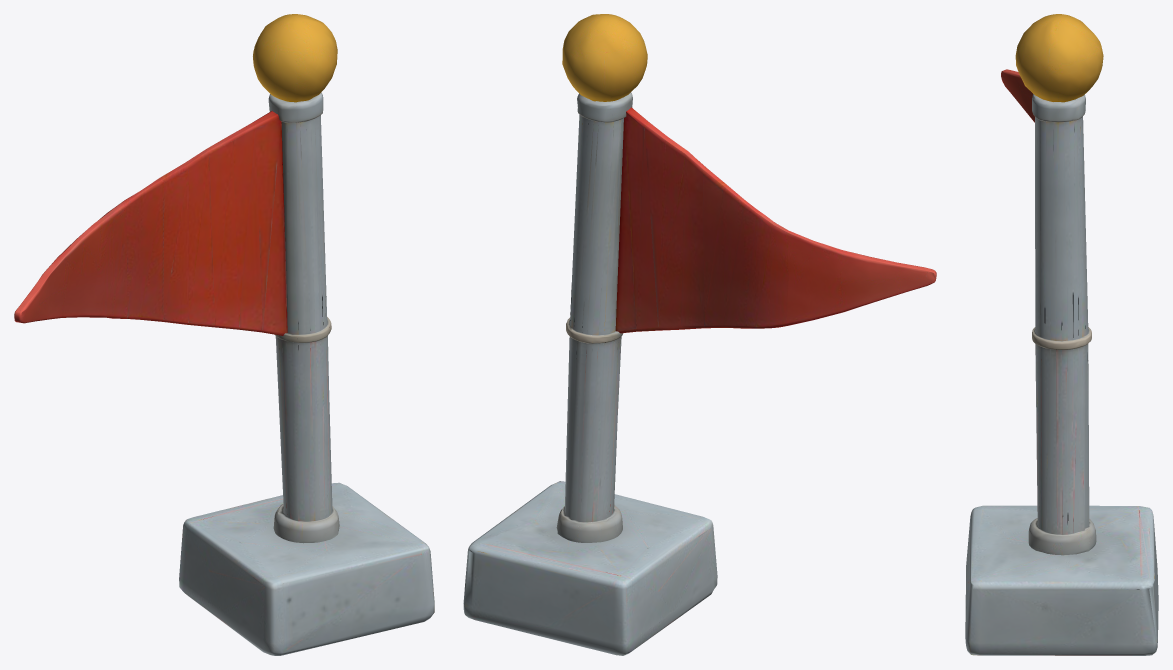
The model's file is flag.glb.
The picture shows the model from 3 angles, left to right: view 1: azimuth 30°, elevation 25°; view 2: azimuth 150°, elevation 25°; view 3: azimuth 270°, elevation 25°; orthographic projection.
Parts seen in each view (by area): view 1: geometry_0; view 2: geometry_0; view 3: geometry_0.
Part boxes in pixels (left/top/right/bottom): geometry_0: left=14, top=14, right=434, bottom=655; geometry_0: left=463, top=14, right=936, bottom=655; geometry_0: left=965, top=14, right=1158, bottom=655.
Bounding box in the file's own units: 0.6748 × 0.9512 × 0.2793.
Materials: 1 (1 with a texture image).
